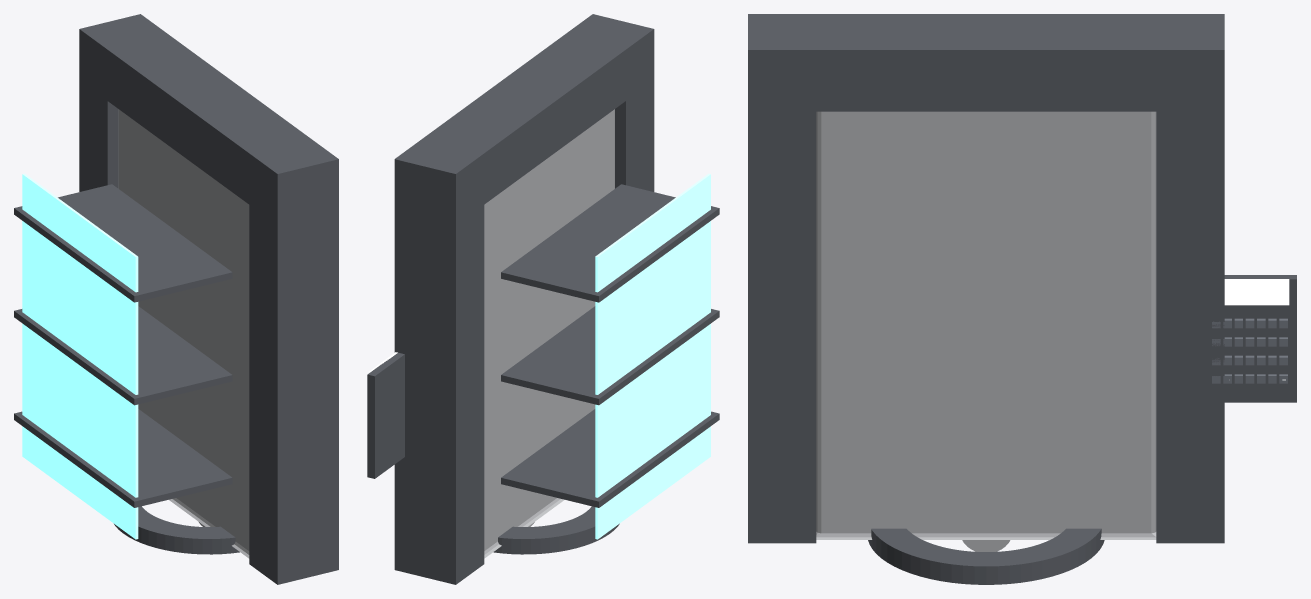
Rendered from Vault.glb.
3 renders of one model, left to right at view 1: azimuth 30°, elevation 25°; view 2: azimuth 150°, elevation 25°; view 3: azimuth 270°, elevation 25°, orthographic. The views are drawn at different scales.
Visible parts, largest first — view 1: Vault_Frame_L, Vault_Archive_Glow, Vault_Door, Vault_Frame_Top, Vault_Archive_Shelf2, Vault_Archive_Shelf0, Vault_Archive_Shelf1, Vault_Frame_R, Vault_LockingRing; view 2: Vault_Frame_R, Vault_Archive_Glow, Vault_Door, Vault_Frame_Top, Vault_Archive_Shelf2, Vault_Archive_Shelf0, Vault_Archive_Shelf1, Vault_Frame_L, Vault_KeypadPanel, Vault_LockingRing; view 3: Vault_Door, Vault_Frame_Top, Vault_Frame_L, Vault_Frame_R, Vault_LockingRing, Vault_KeypadPanel, Vault_Display.
Part boxes in pixels (left/top/right/bottom): Vault_Frame_L: left=249, top=139, right=338, bottom=584; Vault_Archive_Glow: left=22, top=173, right=138, bottom=539; Vault_Door: left=118, top=109, right=249, bottom=558; Vault_Frame_Top: left=79, top=33, right=338, bottom=225; Vault_Archive_Shelf2: left=14, top=184, right=232, bottom=302; Vault_Archive_Shelf0: left=14, top=409, right=232, bottom=507; Vault_Archive_Shelf1: left=14, top=306, right=232, bottom=405; Vault_Frame_R: left=79, top=14, right=168, bottom=191; Vault_LockingRing: left=114, top=506, right=239, bottom=554; Vault_Frame_R: left=394, top=138, right=484, bottom=584; Vault_Archive_Glow: left=595, top=173, right=710, bottom=539; Vault_Door: left=484, top=109, right=614, bottom=558; Vault_Frame_Top: left=394, top=16, right=654, bottom=224; Vault_Archive_Shelf2: left=501, top=184, right=719, bottom=302; Vault_Archive_Shelf0: left=501, top=409, right=719, bottom=507; Vault_Archive_Shelf1: left=501, top=306, right=719, bottom=405; Vault_Frame_L: left=565, top=14, right=654, bottom=191; Vault_KeypadPanel: left=367, top=352, right=404, bottom=478; Vault_LockingRing: left=493, top=506, right=619, bottom=554; Vault_Door: left=816, top=111, right=1156, bottom=539; Vault_Frame_Top: left=748, top=14, right=1224, bottom=111; Vault_Frame_L: left=748, top=14, right=816, bottom=543; Vault_Frame_R: left=1156, top=14, right=1224, bottom=543; Vault_LockingRing: left=868, top=528, right=1104, bottom=584; Vault_KeypadPanel: left=1224, top=275, right=1296, bottom=402; Vault_Display: left=1224, top=279, right=1289, bottom=305.
Size of the model in its own units: 1.8 by 3.36 by 3.23.
